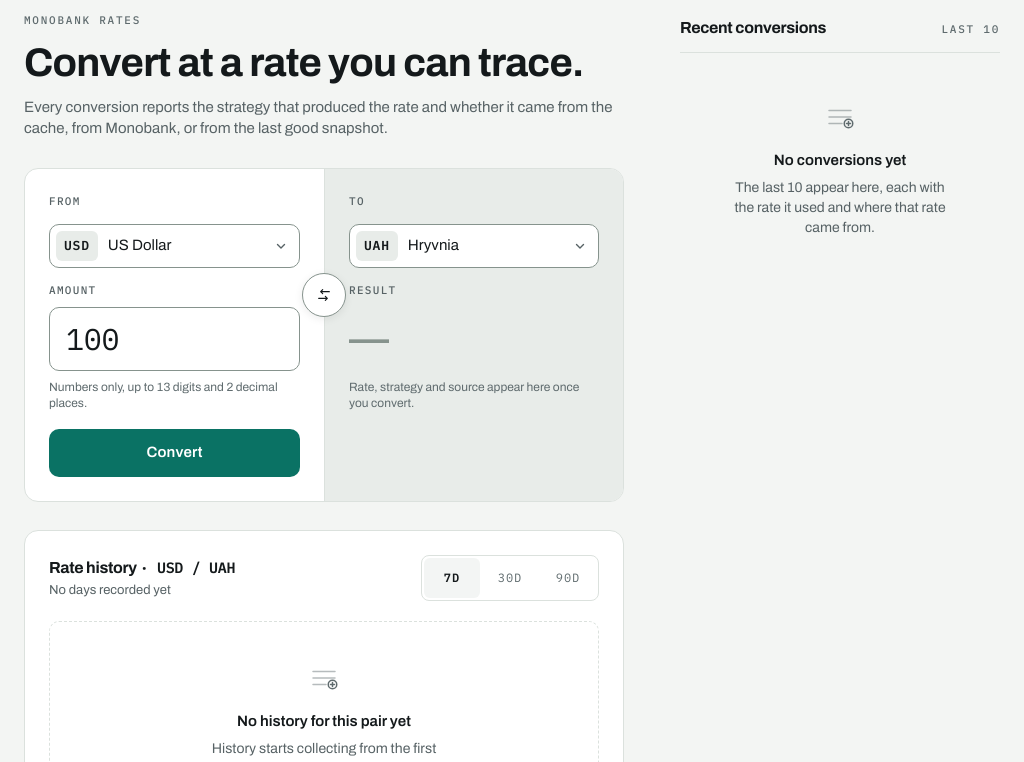
Test: the answer landing › replays on the text and on nothing around it
Expected: the dropdown named "From" is shown, x1=49 y1=224 x2=300 y2=268
Click the button "Convert". click: [174, 453]
box: x1=49 y1=429 x2=300 y2=477
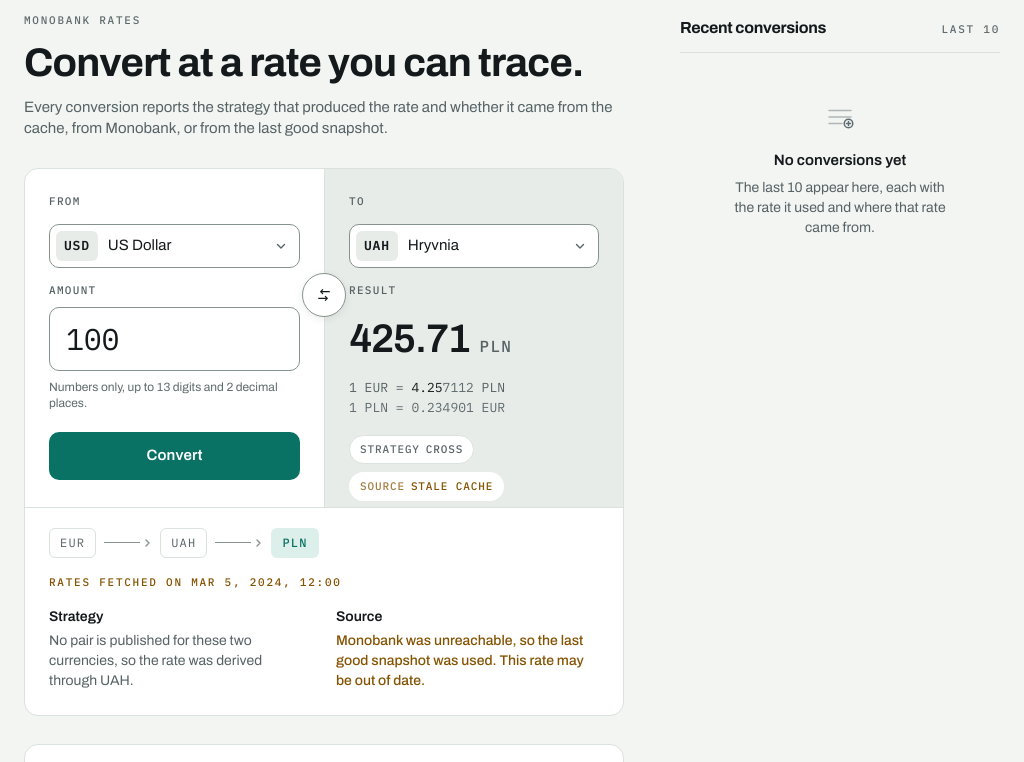
Expected: the element "Result" shows "425.71 PLN", x1=349 y1=283 x2=512 y2=416
Click the button "Convert". click: [174, 456]
box: x1=49 y1=432 x2=300 y2=480
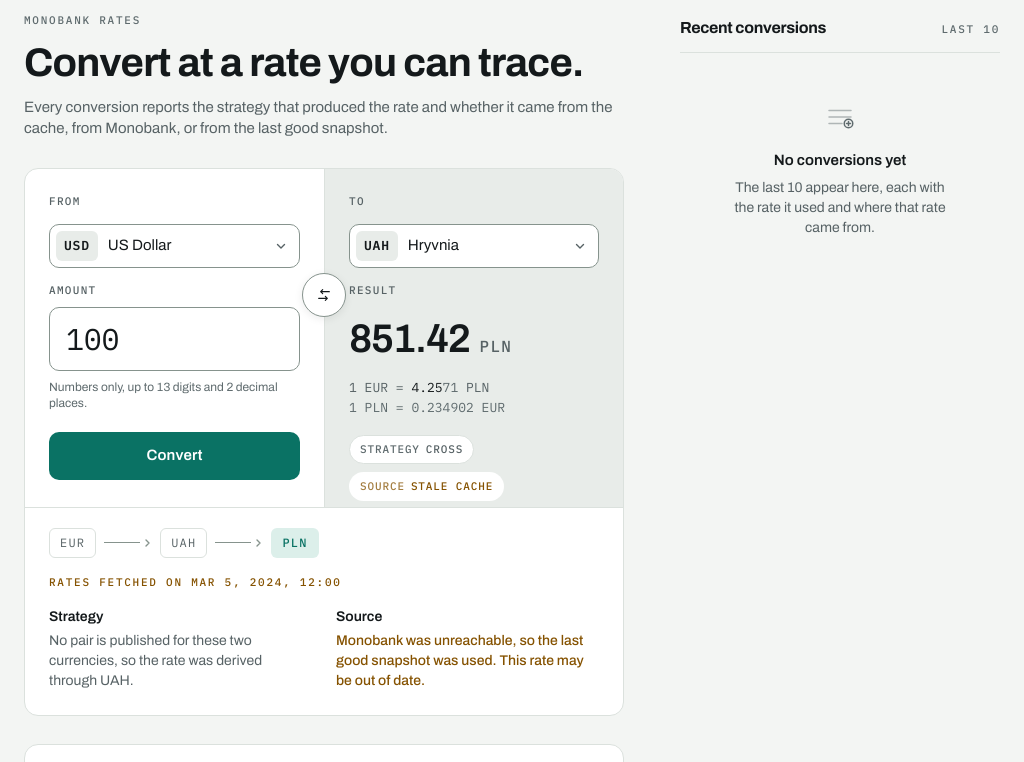
Expected: the element "Result" shows "851.42 PLN", x1=349 y1=283 x2=512 y2=416
